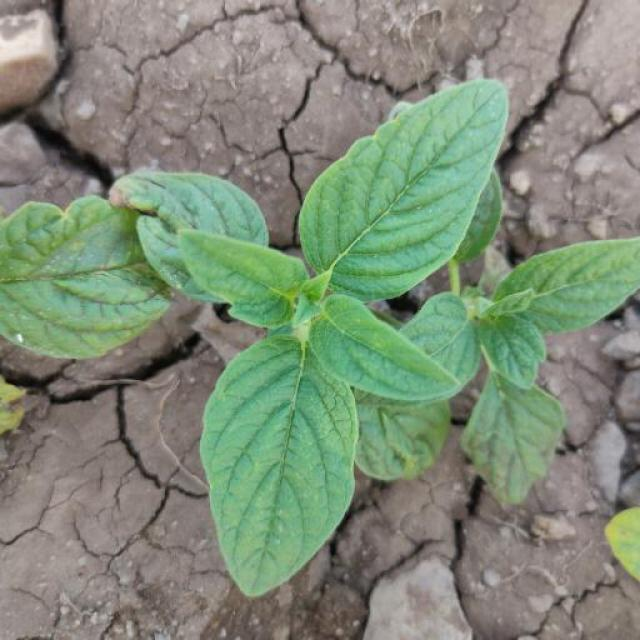crop: (167, 76, 640, 606)
